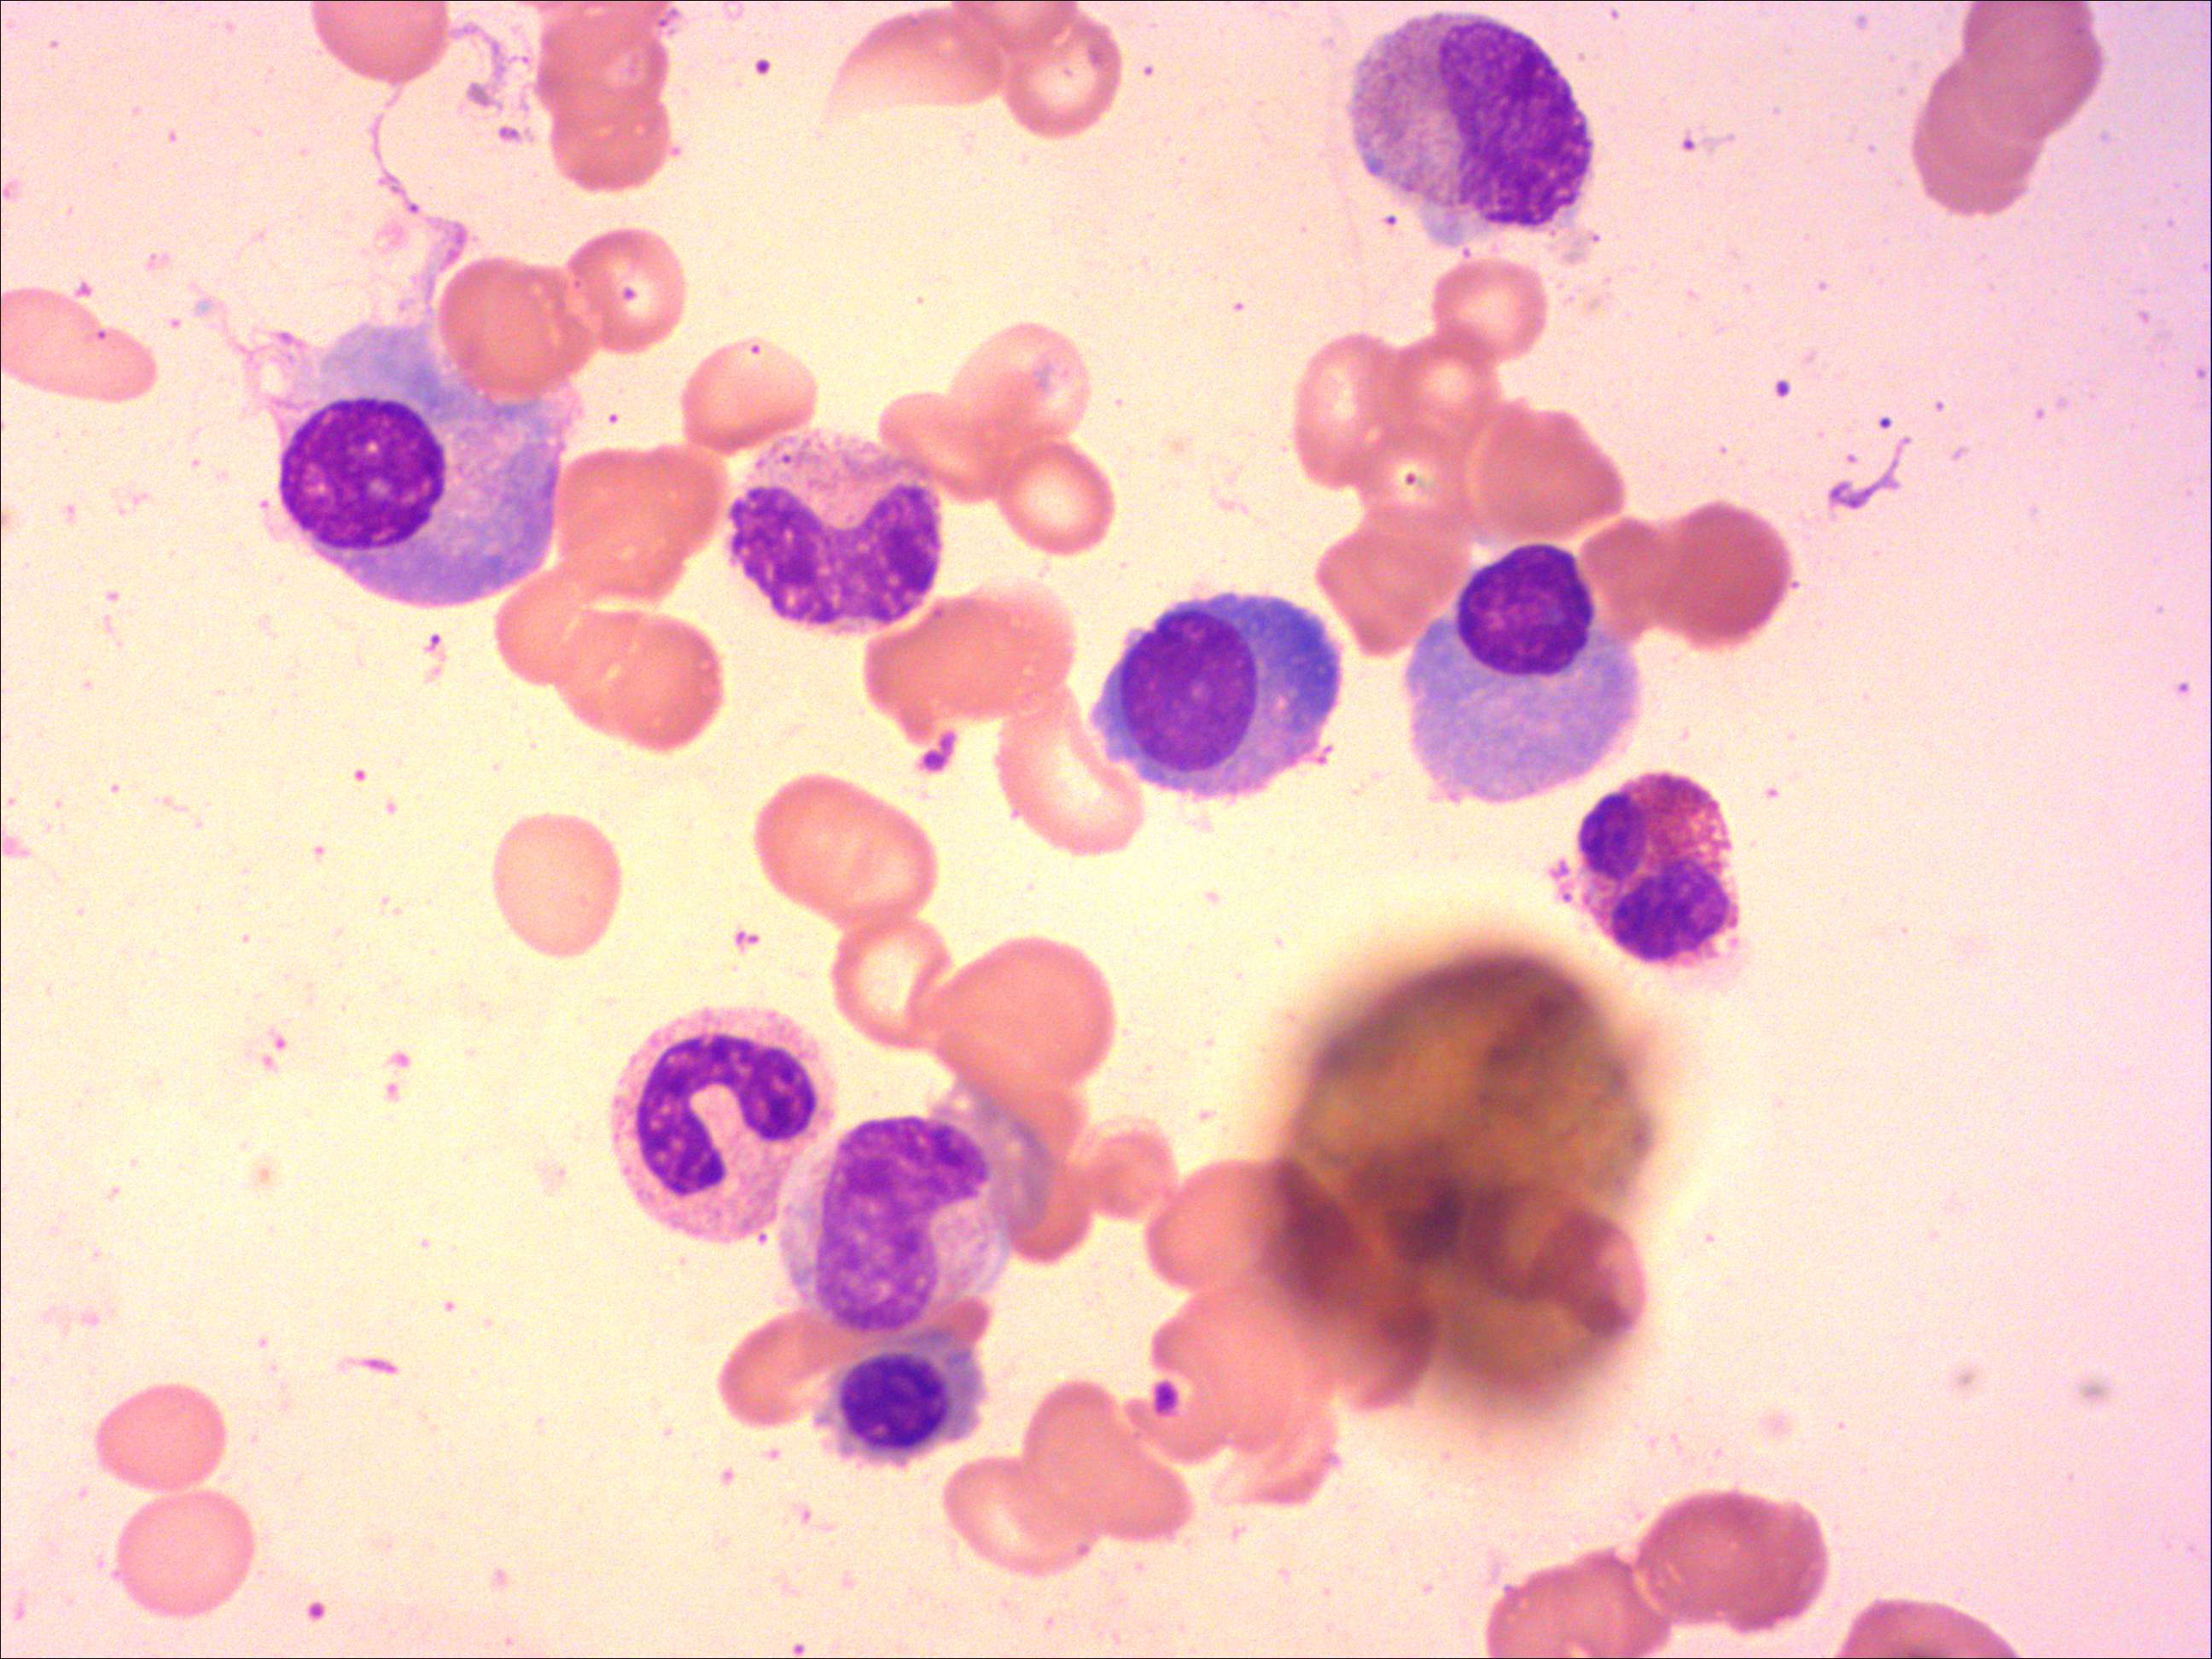24: (805, 1321, 996, 1478)
4: (1345, 3, 1601, 253), (770, 1103, 1019, 1349), (718, 420, 951, 647)
5: (604, 1002, 841, 1253)
51: (263, 319, 589, 613), (1399, 540, 1651, 812), (1082, 584, 1348, 809)
E4: (1568, 767, 1747, 976)
